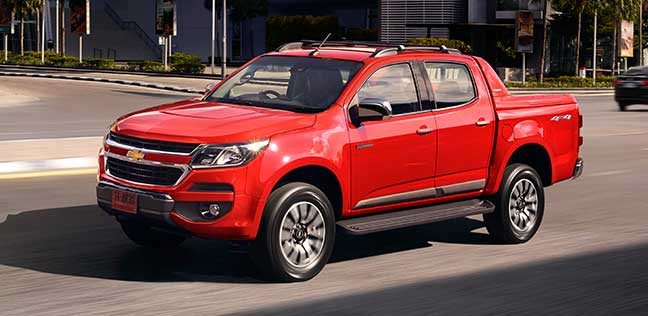pickup: (93, 42, 585, 285)
